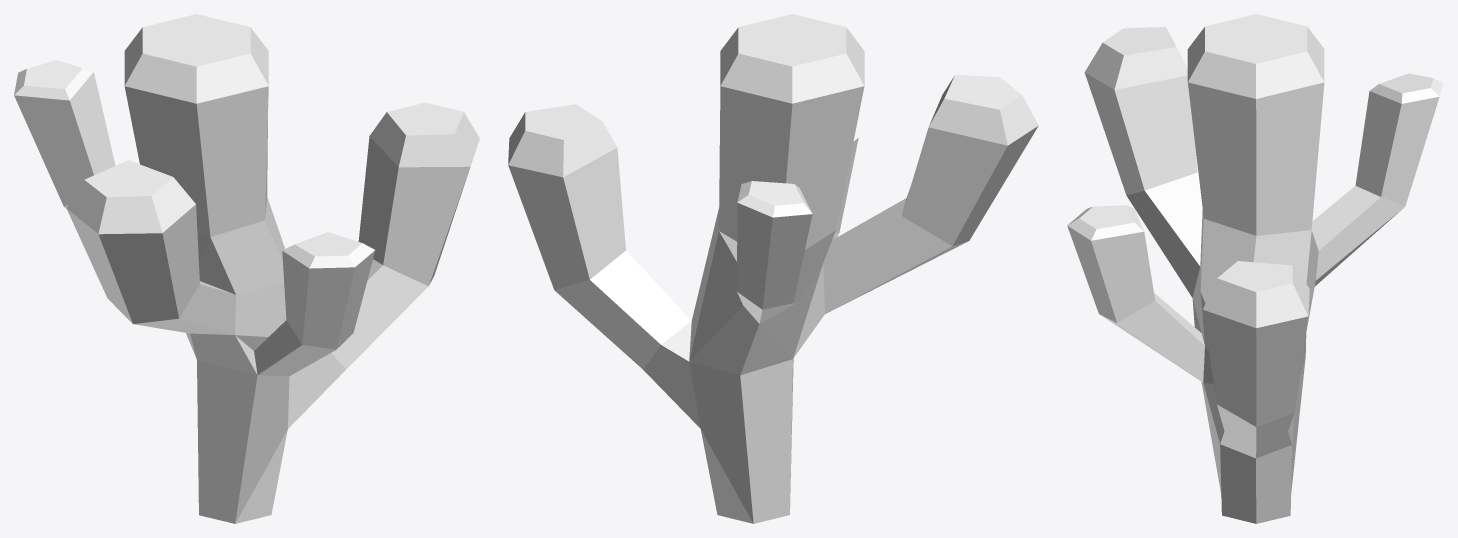
File: SM_Prop_Coral_02.glb
3 views of the same model, side by side, from view 1: azimuth 30°, elevation 25°; view 2: azimuth 150°, elevation 25°; view 3: azimuth 270°, elevation 25° (orthographic). The views are drawn at different scales.
Visible parts, largest first — view 1: SM_Prop_Coral_02; view 2: SM_Prop_Coral_02; view 3: SM_Prop_Coral_02.
Boxes of the visible parts, x1,y1,x2,y2 form: SM_Prop_Coral_02: (14, 14, 479, 523); SM_Prop_Coral_02: (508, 14, 1038, 523); SM_Prop_Coral_02: (1067, 14, 1443, 523).
Size of the model in its own units: 0.2328 by 0.2319 by 0.1757.
Materials: 1 (1 with a texture image).
